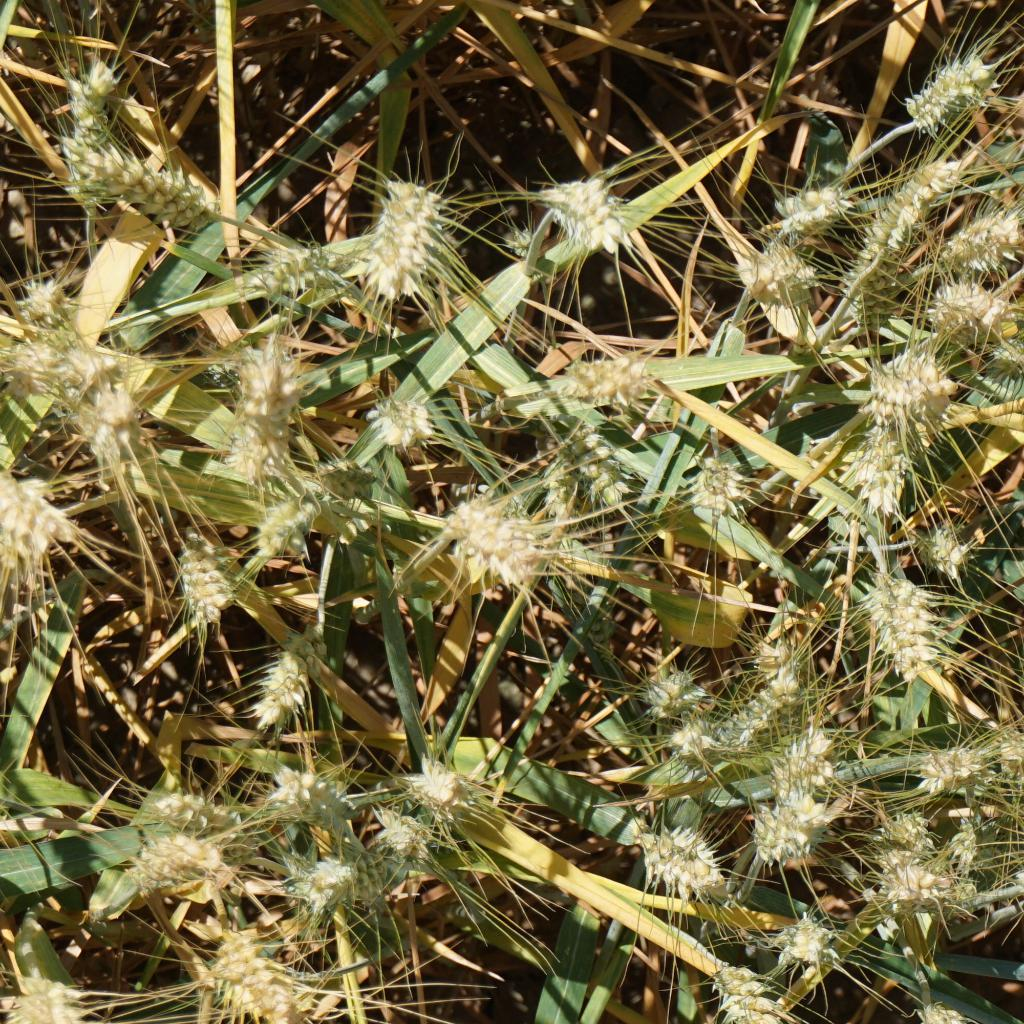0-0: (433, 487, 560, 593), (221, 341, 316, 479), (350, 173, 446, 309), (245, 613, 340, 742), (860, 564, 952, 691), (80, 144, 214, 230), (535, 166, 644, 271), (203, 927, 301, 1024), (150, 782, 260, 868), (559, 418, 649, 515), (859, 153, 941, 254), (56, 71, 120, 199), (628, 817, 726, 899), (531, 464, 610, 560), (863, 349, 961, 426), (892, 56, 985, 131), (0, 466, 71, 564), (129, 826, 227, 896), (164, 528, 237, 621), (846, 425, 918, 517), (726, 651, 820, 719), (560, 344, 658, 408), (876, 803, 935, 907), (927, 281, 1016, 348), (290, 844, 365, 921), (687, 451, 762, 528), (240, 241, 332, 303), (762, 908, 841, 978), (921, 731, 1002, 799), (75, 380, 143, 460), (2, 960, 85, 1024), (250, 482, 323, 554), (749, 796, 826, 864), (746, 252, 832, 312), (267, 764, 348, 826), (12, 263, 85, 331), (4, 328, 72, 399), (709, 968, 792, 1024), (366, 387, 437, 452), (403, 758, 475, 822), (772, 725, 839, 790), (932, 206, 1008, 263), (771, 183, 851, 233), (917, 516, 975, 584), (664, 713, 733, 768), (372, 809, 431, 871), (935, 828, 985, 892), (638, 665, 704, 711), (854, 270, 896, 328), (743, 634, 803, 674), (903, 1002, 996, 1024)
